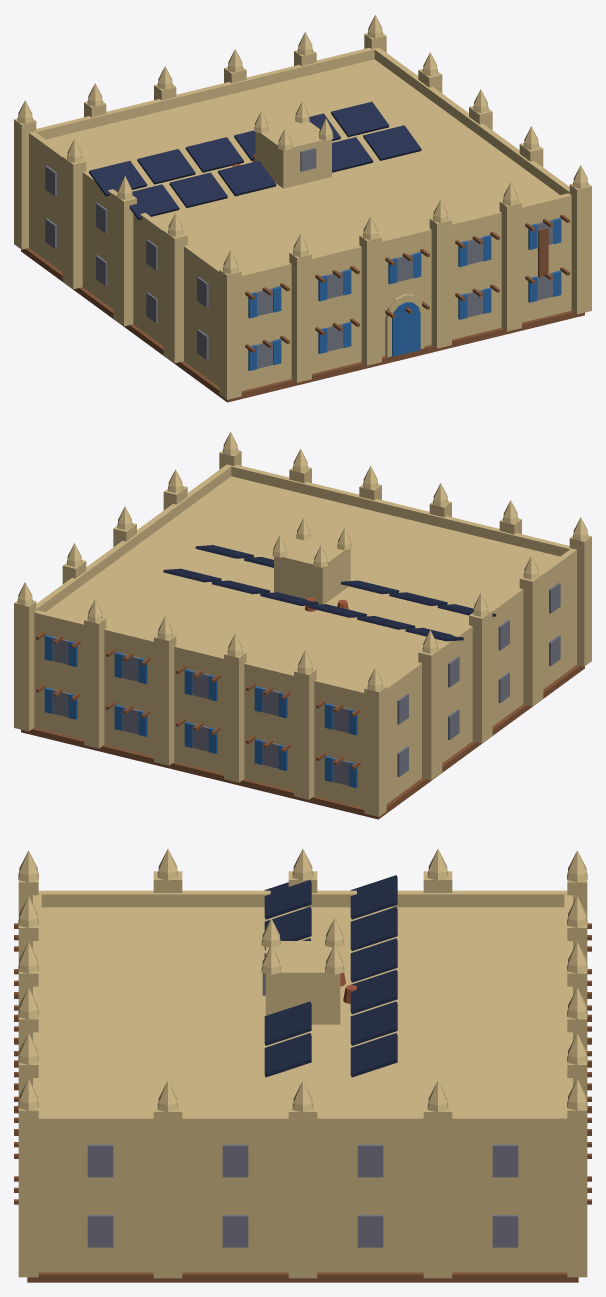
The model's file is house-2x2-2f-banco-a-solar.glb.
3 renders of one model, top to bottom at view 1: azimuth 30°, elevation 25°; view 2: azimuth 150°, elevation 25°; view 3: azimuth 270°, elevation 25°, orthographic. The views are drawn at different scales.
Parts seen in each view (by area): view 1: house-2x2-2f-banco-a-solar; view 2: house-2x2-2f-banco-a-solar; view 3: house-2x2-2f-banco-a-solar.
Part boxes in pixels (x1,y1,x2,y2): house-2x2-2f-banco-a-solar: (14,15,591,402); house-2x2-2f-banco-a-solar: (14,432,591,819); house-2x2-2f-banco-a-solar: (14,849,591,1282).
Size of the model in its own units: 1.99 by 0.878 by 2.01.
1 material, 1 textured.
